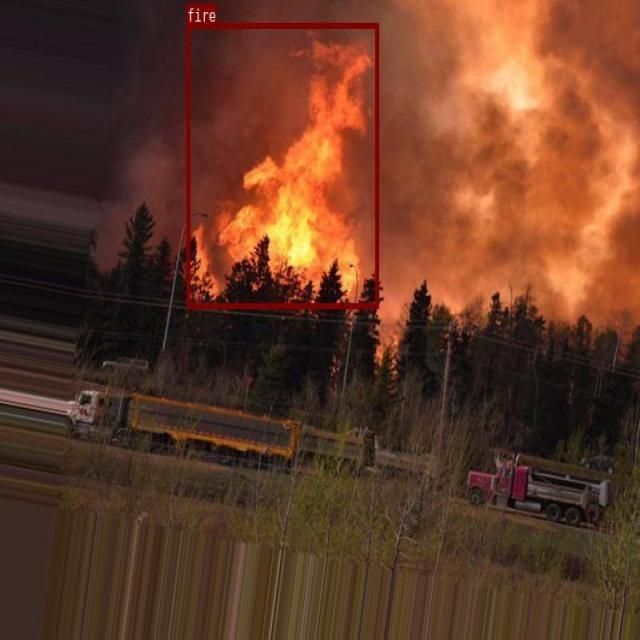fire: (186, 23, 378, 308)
